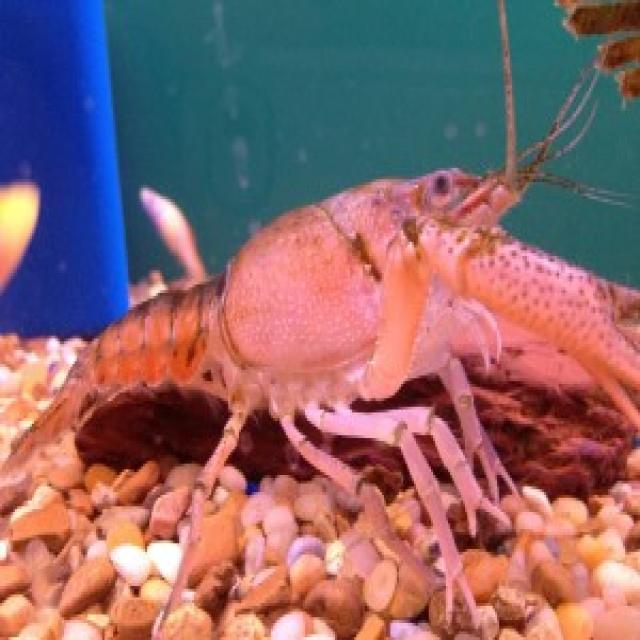lobsters: (25, 116, 640, 640)
